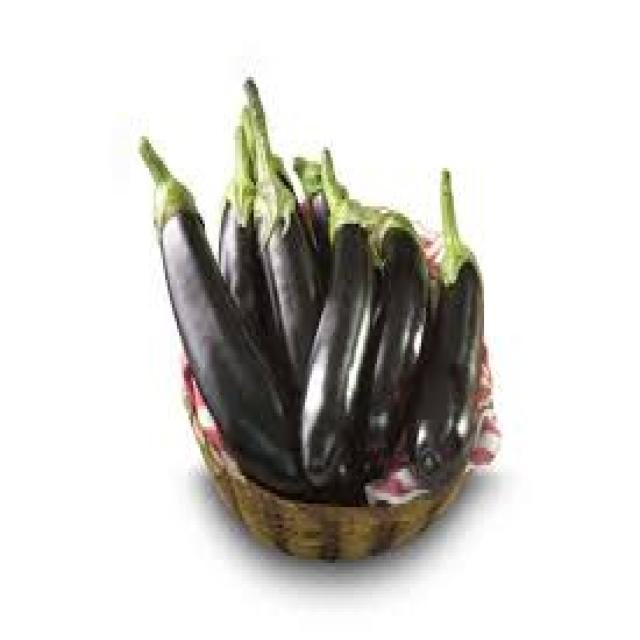eggplant: (151, 168, 307, 486), (298, 199, 365, 483), (358, 192, 426, 462), (407, 238, 484, 476)
